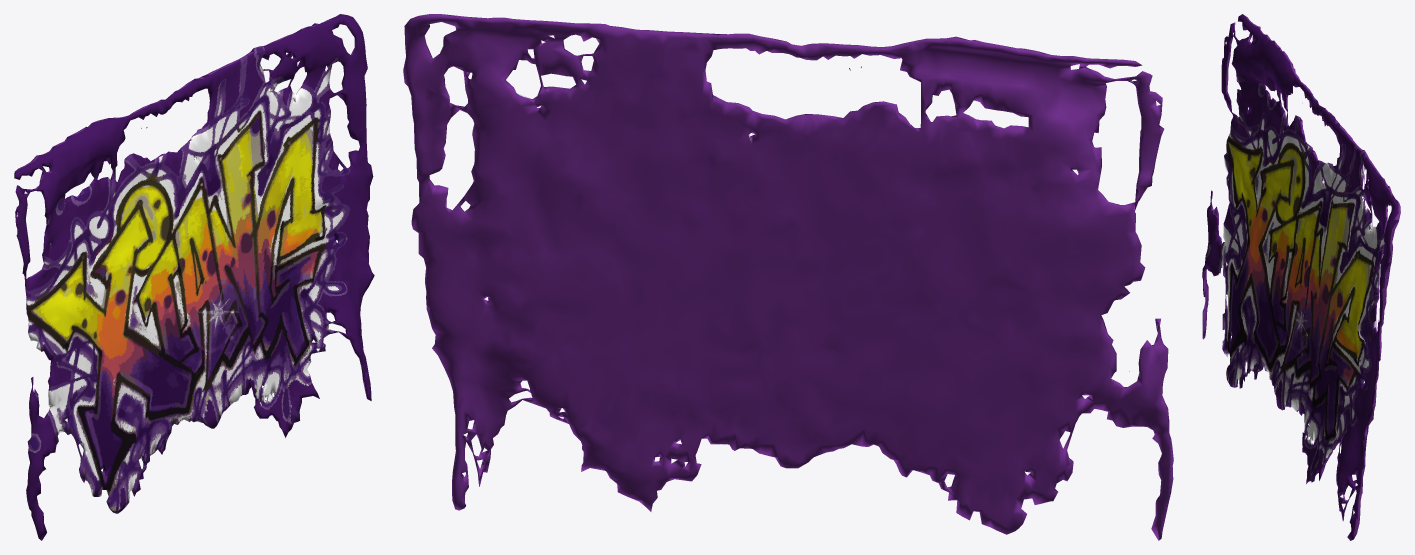
Rendered from Xiang-Graffiti-3D.glb.
The picture shows the model from 3 angles, left to right: view 1: azimuth 30°, elevation 25°; view 2: azimuth 150°, elevation 25°; view 3: azimuth 270°, elevation 25°; orthographic projection. The views are drawn at different scales.
Parts seen in each view (by area): view 1: lagrange_node; view 2: lagrange_node; view 3: lagrange_node.
Part boxes in pixels (<box>): lagrange_node: <box>14,14,374,540</box>; lagrange_node: <box>403,14,1173,540</box>; lagrange_node: <box>1202,14,1400,540</box>.
Size of the model in its own units: 11.54 by 9.52 by 4.91.
2 materials, 1 textured.
